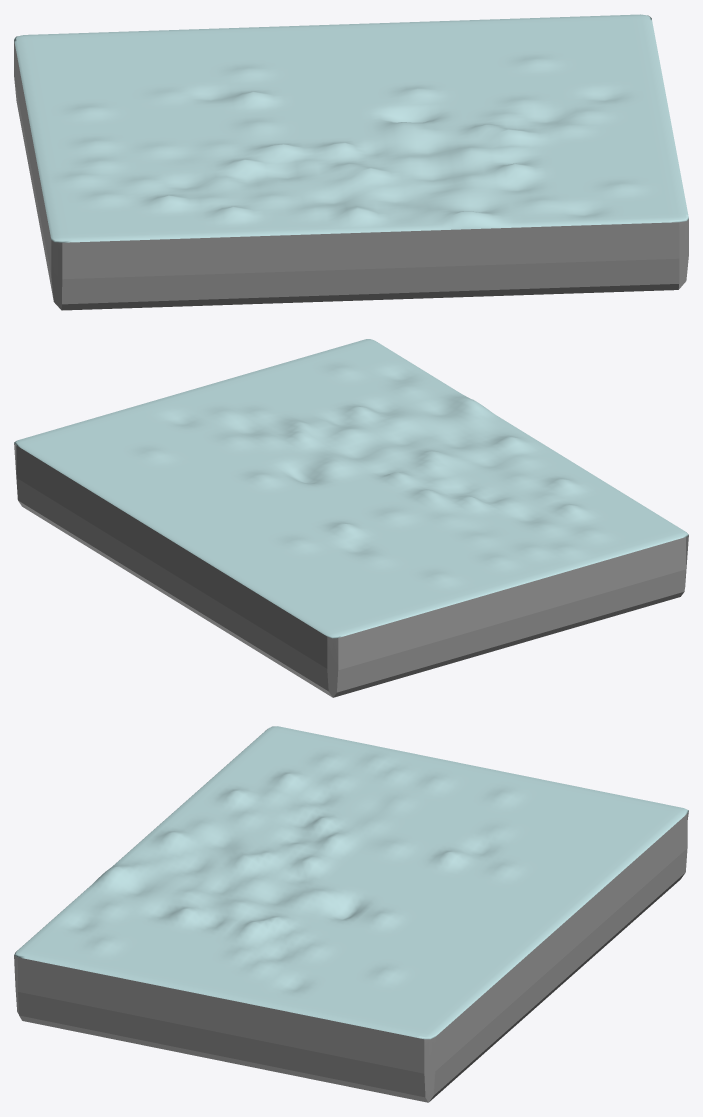
The model's file is SNowGround.fbx.
3 views of the same model, one above another, from view 1: azimuth 30°, elevation 25°; view 2: azimuth 150°, elevation 25°; view 3: azimuth 270°, elevation 25° (orthographic). The views are drawn at different scales.
Visible parts, largest first — view 1: polySurface112; view 2: polySurface112; view 3: polySurface112.
Part boxes in pixels (x1,y1,x2,y2): polySurface112: [14, 14, 688, 310]; polySurface112: [14, 339, 688, 697]; polySurface112: [14, 726, 688, 1102].
Bounding box in the file's own units: 68.43 × 7.87 × 62.38.
